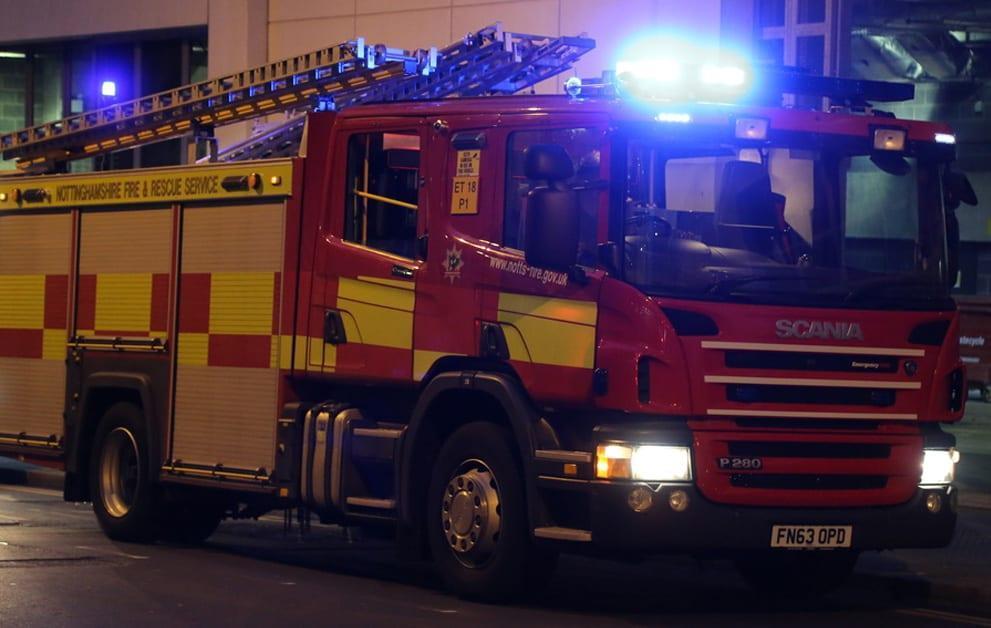Fire-engine: (0, 27, 978, 596), (7, 1, 557, 207)
